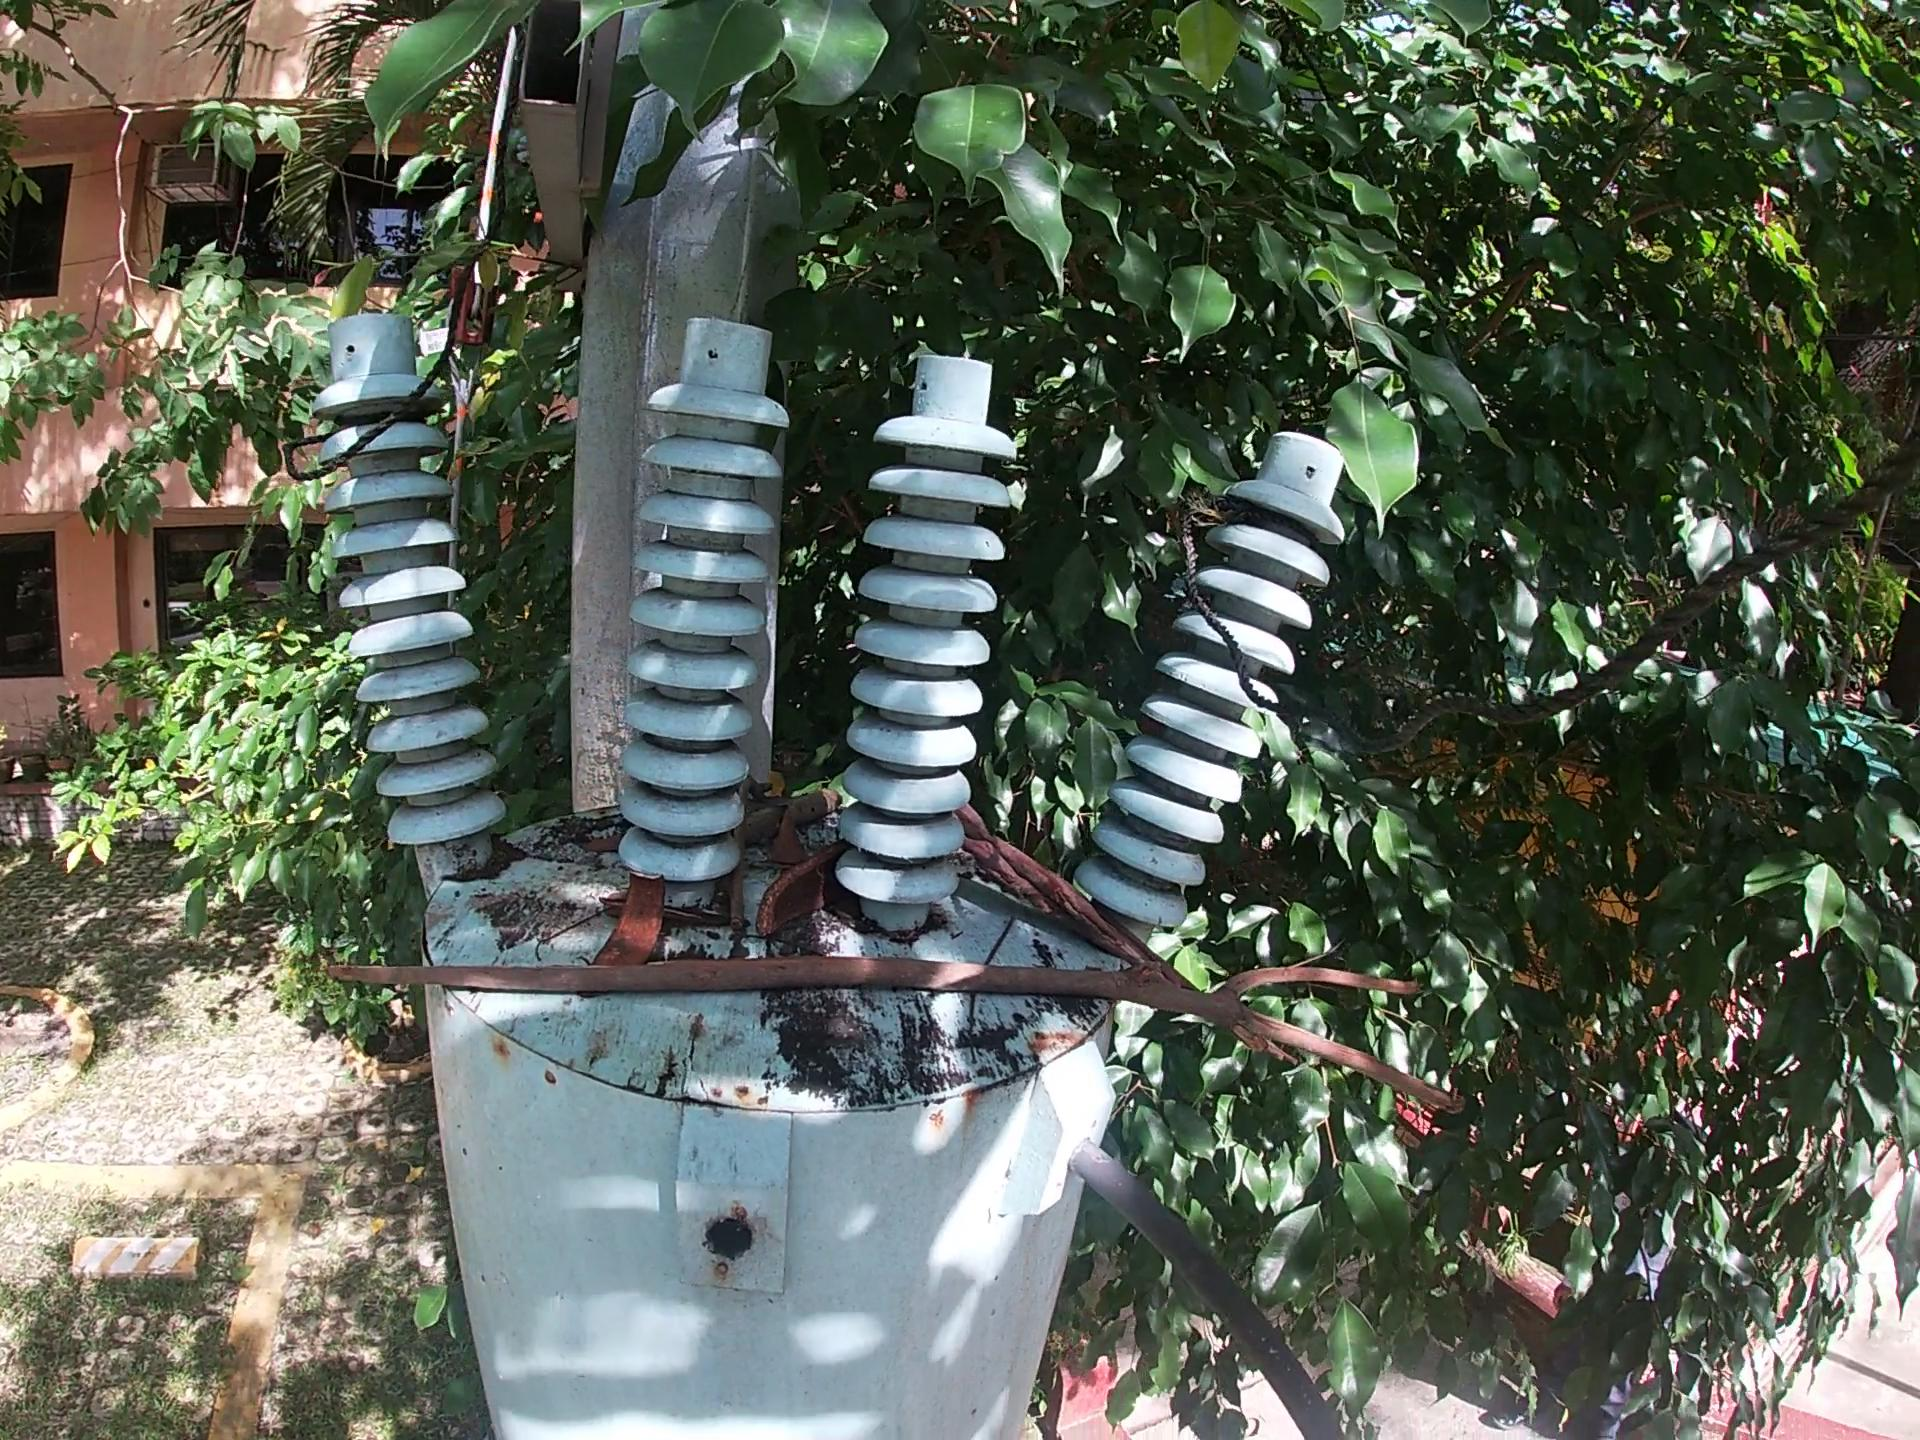leaf: (581, 830, 624, 852)
mahogany fruit: (741, 855, 844, 939), (596, 865, 674, 959)
tree branch: (313, 951, 1518, 1144), (960, 806, 1178, 965), (729, 776, 777, 929), (735, 787, 838, 843), (529, 909, 599, 964), (977, 917, 1023, 965), (673, 906, 735, 939), (963, 989, 992, 1050), (602, 898, 626, 920)
